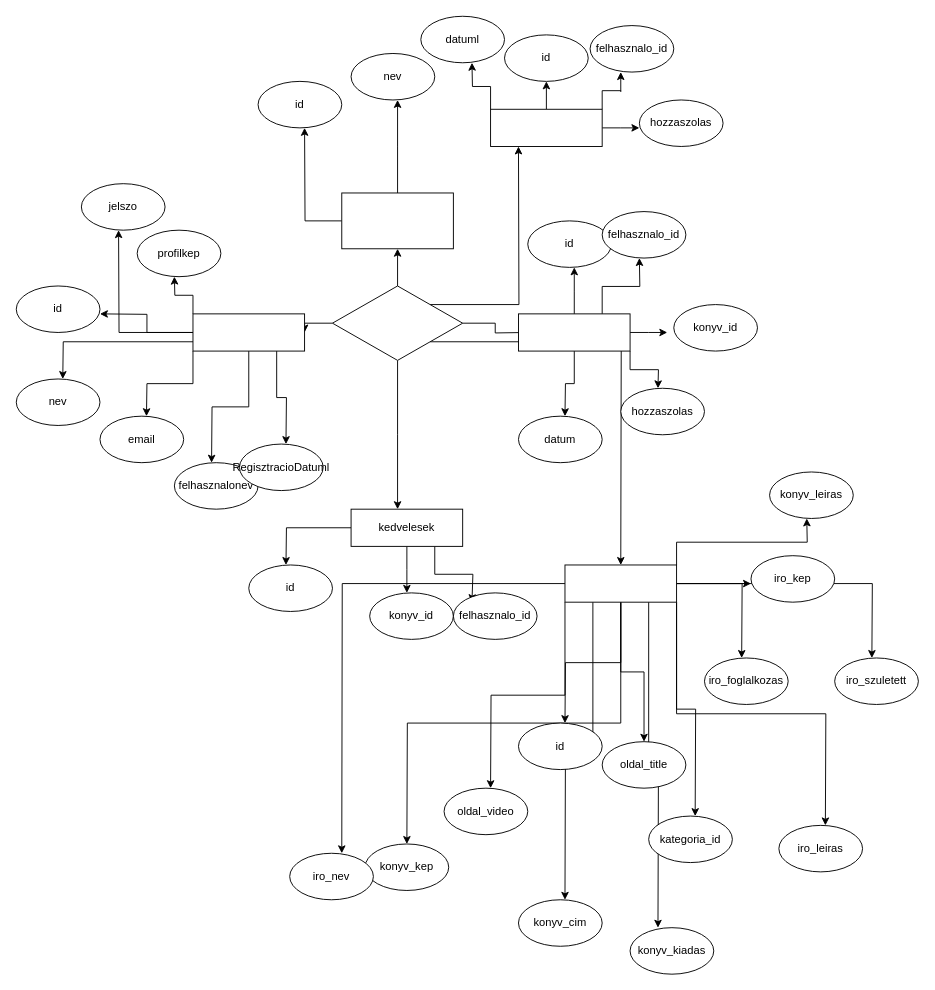
Image size: 935x990. Some labels were removed from this diagram. Each missing label, with the centre of its shape:
"chat" goes at (x=546, y=127).
"elfelejtett" goes at (x=397, y=322).
"felhasznalok" goes at (x=248, y=332).
"hozzaszolasok" goes at (x=574, y=332).
"konyvek" goes at (x=620, y=583).
"konyvkategoria" goes at (x=397, y=220).
